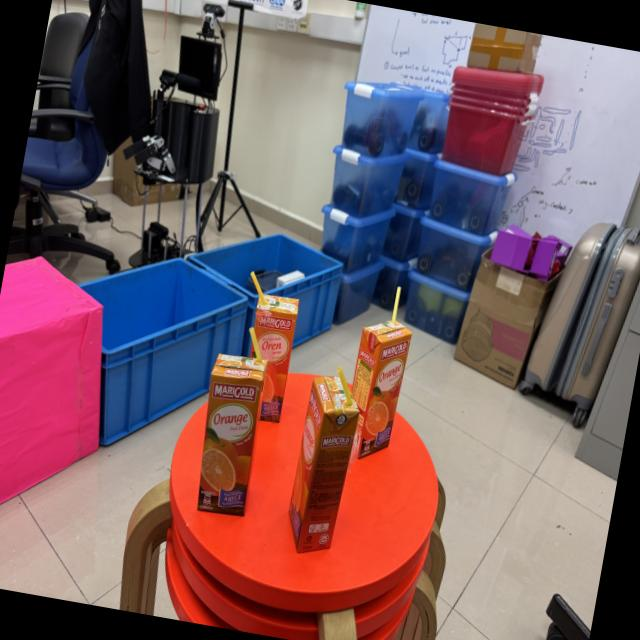drink_carton: (181, 315, 282, 528), (273, 361, 373, 569), (336, 272, 424, 470), (220, 260, 312, 435)
